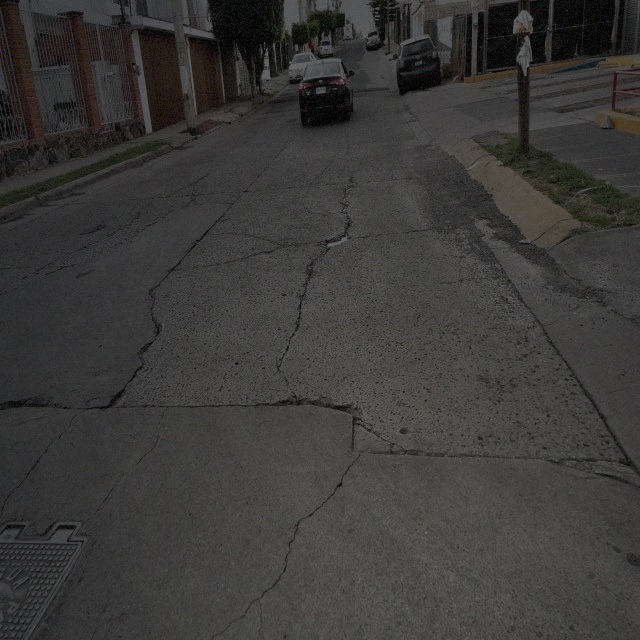pothole: (324, 231, 350, 249)
